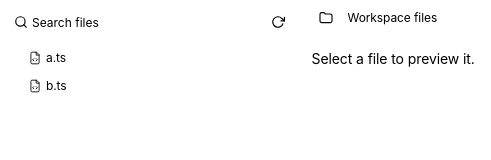
Scenario: workspace file filter toolbar › clears a query from its button and returns keyboard focus without fetching extra directories
The width and height of the screenshot is (491, 160).
Type "a.ts" into the search field with placeholder "Search files" at (143, 22), box [32,9,254,35]
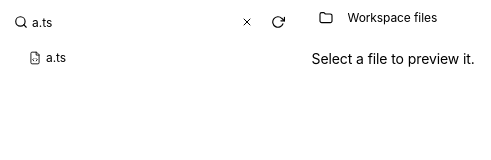
Click the button named "Clear file search" at (246, 22), box [236,12,256,32]
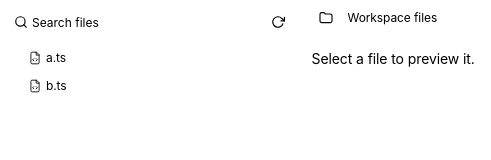
Expected: the search field with placeholder "Search files" is empty, [32,9,254,35]
Expected: the button with class "workspace-files__filter-clear" is gone
